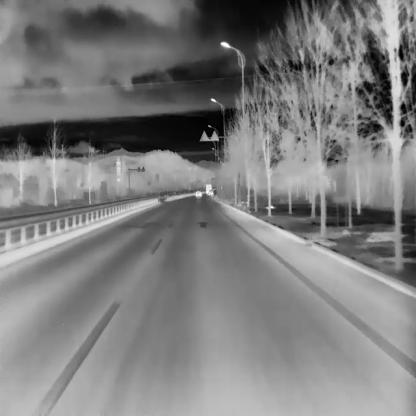car: (205, 183, 212, 195), (195, 189, 201, 197), (208, 188, 214, 196)
